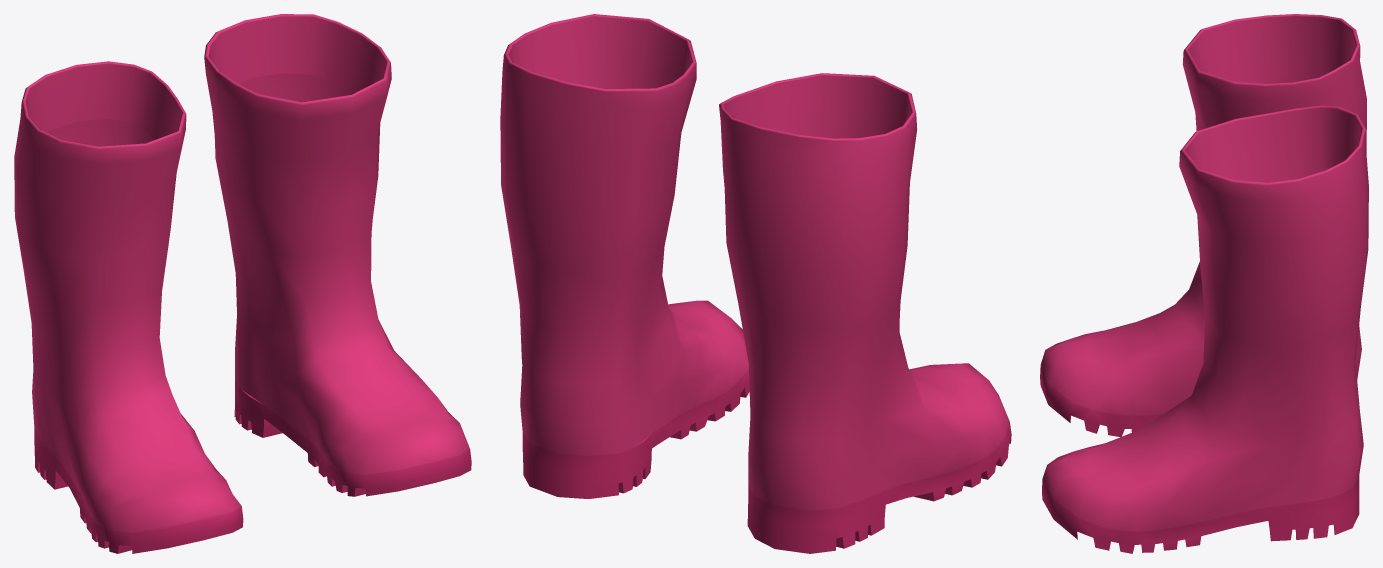
Rendered from Rainy.glb.
The picture shows the model from 3 angles, left to right: view 1: azimuth 30°, elevation 25°; view 2: azimuth 150°, elevation 25°; view 3: azimuth 270°, elevation 25°; orthographic projection. The views are drawn at different scales.
Parts seen in each view (by area): view 1: Rainy; view 2: Rainy; view 3: Rainy.
Boxes of the visible parts, x1=… form: Rainy: x1=14, y1=14, x2=471, y2=553; Rainy: x1=500, y1=14, x2=1011, y2=553; Rainy: x1=1040, y1=14, x2=1368, y2=553.
Bounding box in the file's own units: 0.9913 × 1.01 × 0.7859.
Materials: 1 (1 with a texture image).
